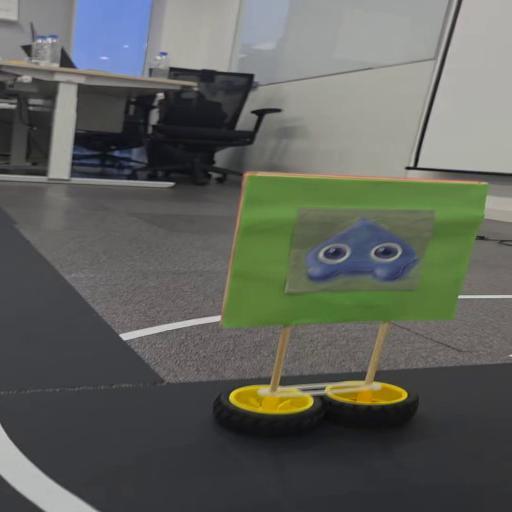Sign_B: (202, 168, 499, 438)
